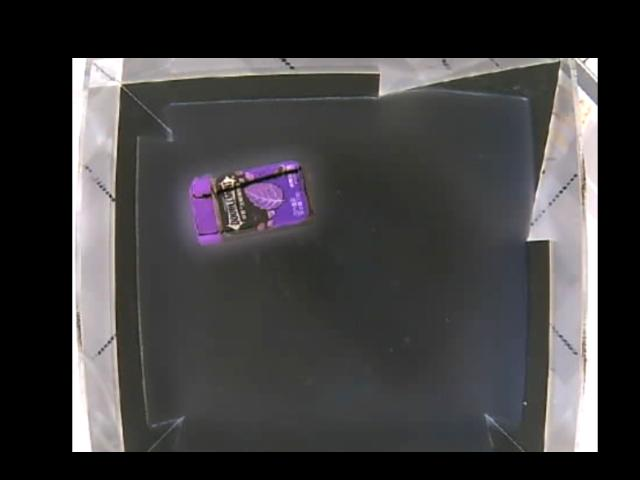Bottle: (190, 162, 313, 245)
